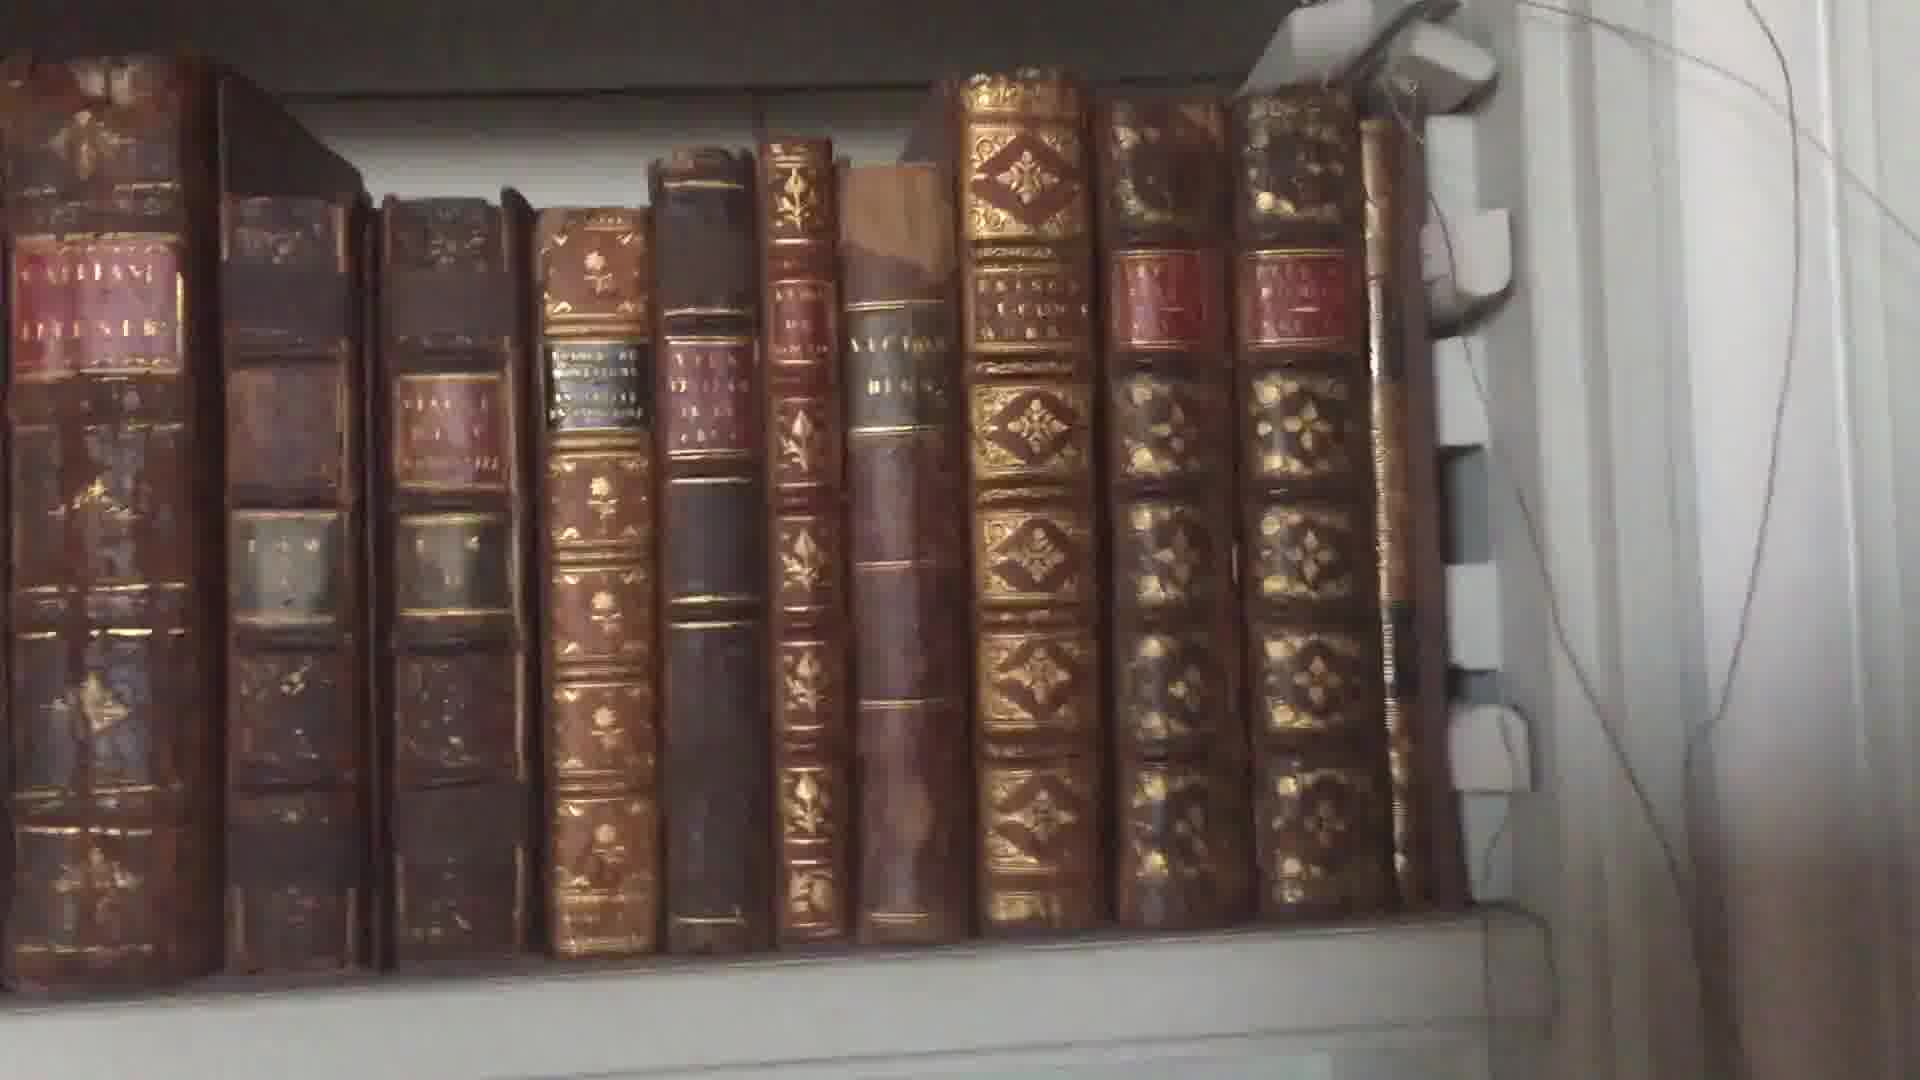Aa6-38: (3, 55, 207, 1002)
Aa6-39_40: (199, 161, 533, 982)
Aa6-41: (533, 196, 644, 934)
Aa6-42: (636, 131, 775, 956)
Aa6-43: (765, 124, 855, 951)
Aa6-44: (836, 129, 985, 957)
Aa6-45: (953, 69, 1131, 951)
Aa6-46-47: (1087, 73, 1387, 928)
Aa6-48: (1356, 113, 1458, 916)
